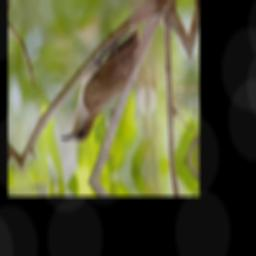Cuckoo: (49, 26, 148, 147)
